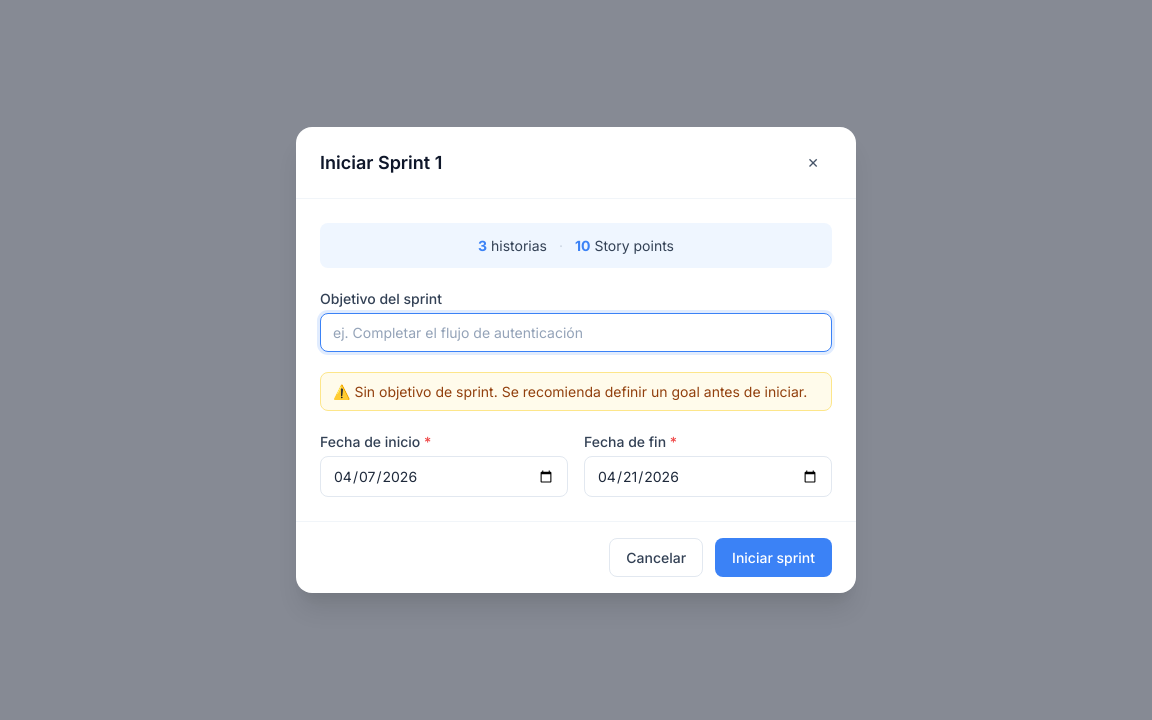
Test: StartSprintModal › shows duration warning for very short sprint
// Set start and end to consecutive days
Type "2026-03-17" into the date field labelled "Fecha de inicio *" at (444, 476), box [320,456,568,497]
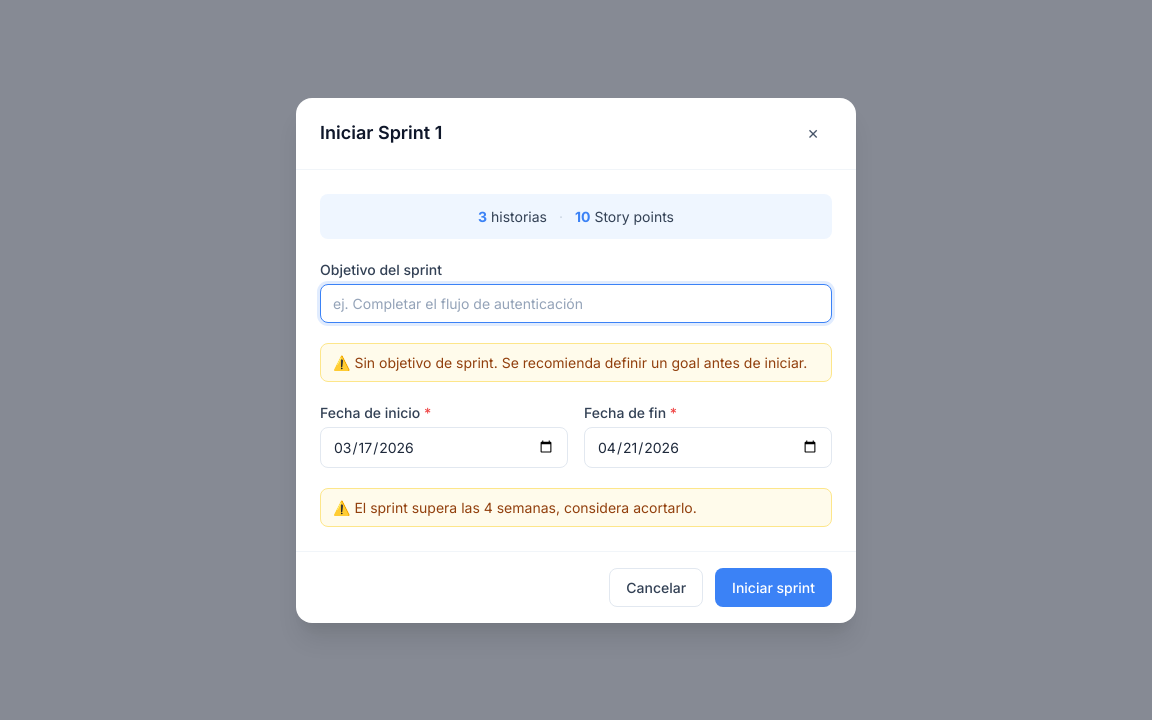
Type "2026-03-18" into the date field labelled "Fecha de fin *" at (708, 447), box [584,426,832,468]
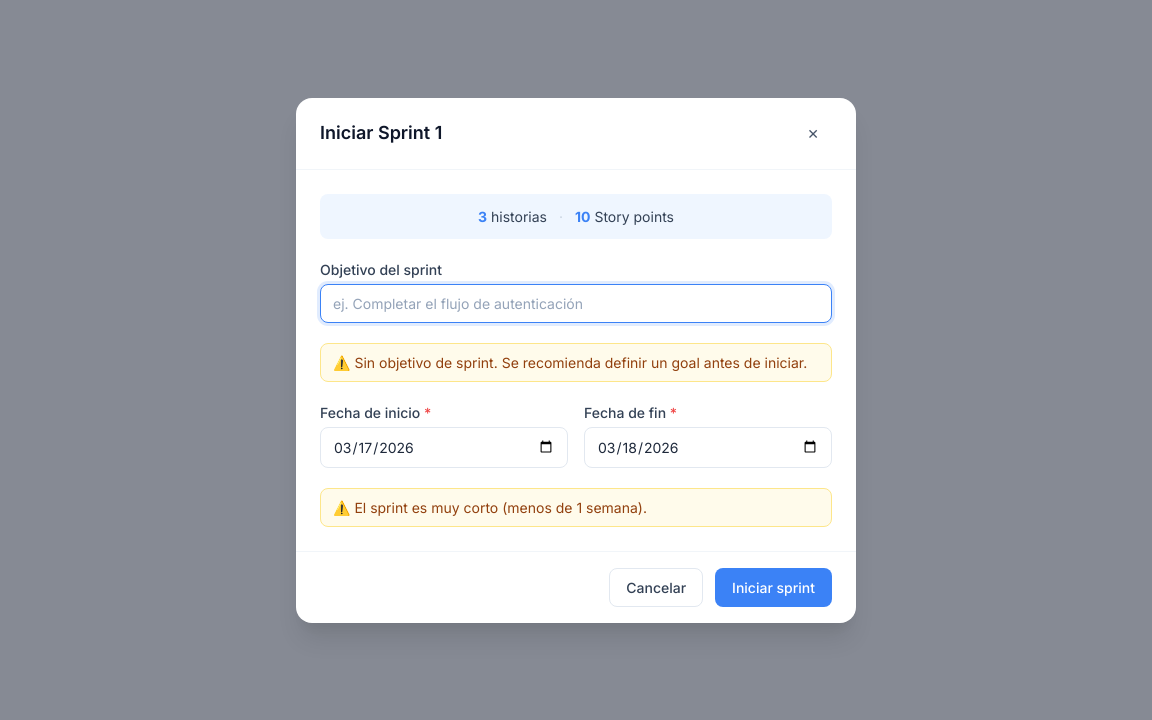
expect the text "⚠️ El sprint es muy corto (menos de 1 semana)." is shown: met, box [320,488,832,526]
